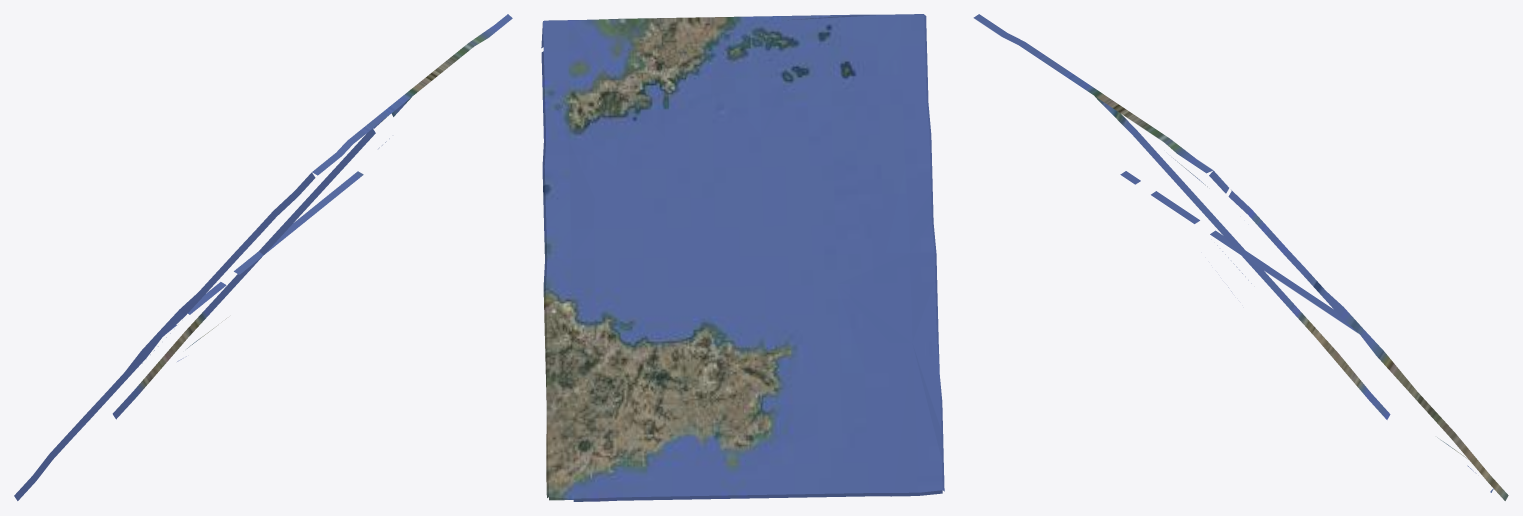
3 views of the same model, side by side, from view 1: azimuth 30°, elevation 25°; view 2: azimuth 150°, elevation 25°; view 3: azimuth 270°, elevation 25° (orthographic). The views are drawn at different scales.
Size of the model in its own units: 314055 by 251547 by 298395.
1 material, 1 textured.
